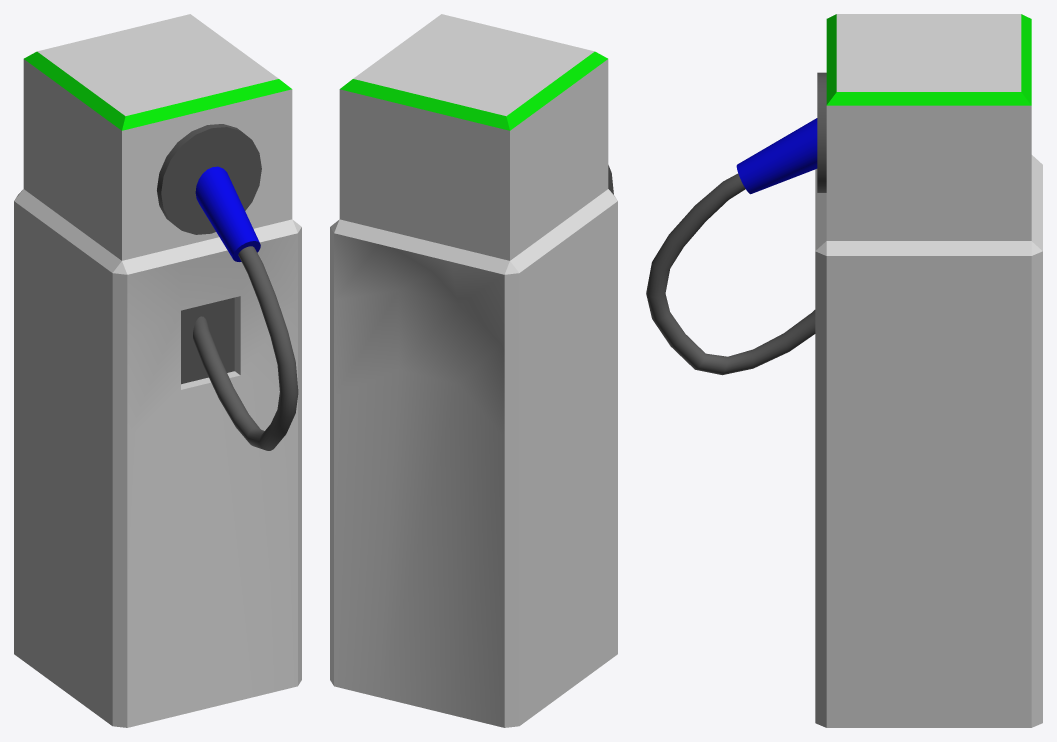
Rendered from Electric Charger.fbx.
The picture shows the model from 3 angles, left to right: view 1: azimuth 30°, elevation 25°; view 2: azimuth 150°, elevation 25°; view 3: azimuth 270°, elevation 25°; orthographic projection. The views are drawn at different scales.
Parts seen in each view (by area): view 1: pCube1, pCylinder1, pTorus1, pCylinder2; view 2: pCube1; view 3: pCube1, pTorus1, pCylinder2, pCylinder1.
Boxes of the visible parts, box(x1,y1,x2,y2) form: pCube1: box(14, 14, 301, 727); pCylinder1: box(157, 124, 261, 234); pTorus1: box(193, 246, 298, 450); pCylinder2: box(195, 166, 260, 261); pCube1: box(330, 14, 617, 727); pCube1: box(815, 14, 1042, 727); pTorus1: box(646, 173, 815, 375); pCylinder2: box(736, 118, 817, 194); pCylinder1: box(817, 72, 826, 192).
Bounding box in the file's own units: 16.8 × 51.03 × 29.27.
